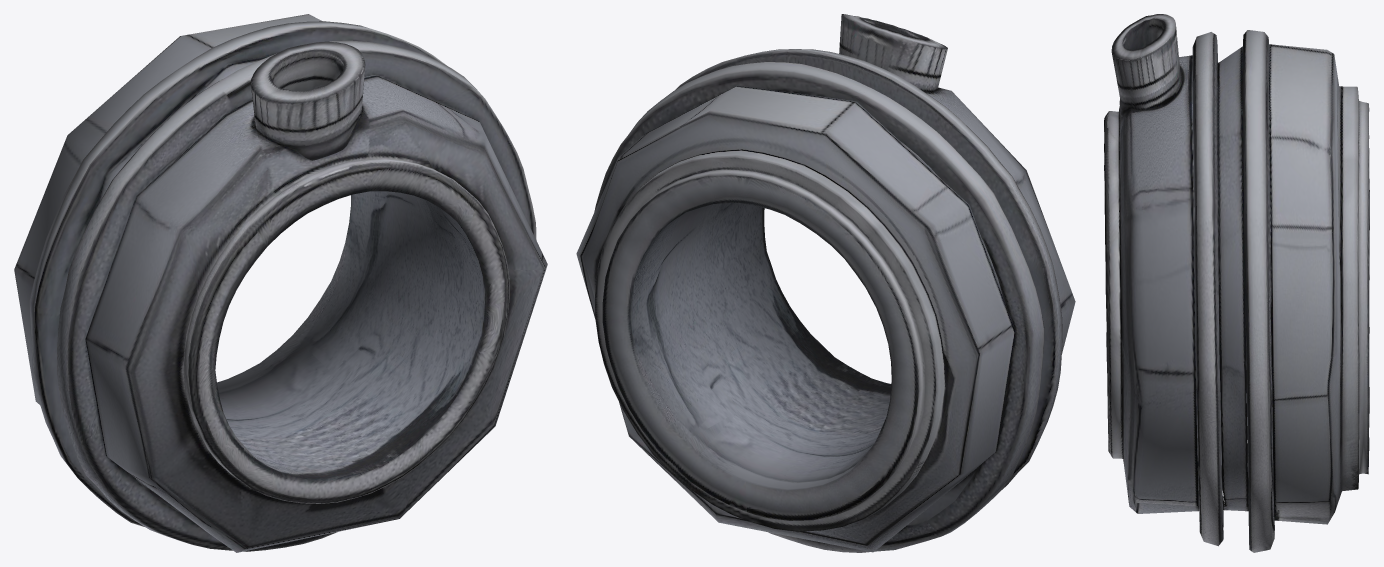
The model's file is hold_8.glb.
The picture shows the model from 3 angles, left to right: view 1: azimuth 30°, elevation 25°; view 2: azimuth 150°, elevation 25°; view 3: azimuth 270°, elevation 25°; orthographic projection. The views are drawn at different scales.
Parts seen in each view (by area): view 1: tripo_node_1eb9f592-2df8-4bfd-9aa0-b176d1215ba4; view 2: tripo_node_1eb9f592-2df8-4bfd-9aa0-b176d1215ba4; view 3: tripo_node_1eb9f592-2df8-4bfd-9aa0-b176d1215ba4.
Boxes of the visible parts, bbox=[...] form: tripo_node_1eb9f592-2df8-4bfd-9aa0-b176d1215ba4: bbox=[14, 14, 547, 552]; tripo_node_1eb9f592-2df8-4bfd-9aa0-b176d1215ba4: bbox=[576, 14, 1075, 552]; tripo_node_1eb9f592-2df8-4bfd-9aa0-b176d1215ba4: bbox=[1104, 14, 1369, 552].
Bounding box in the file's own units: 0.0956 × 0.0995 × 0.0488.
1 material, 1 textured.
